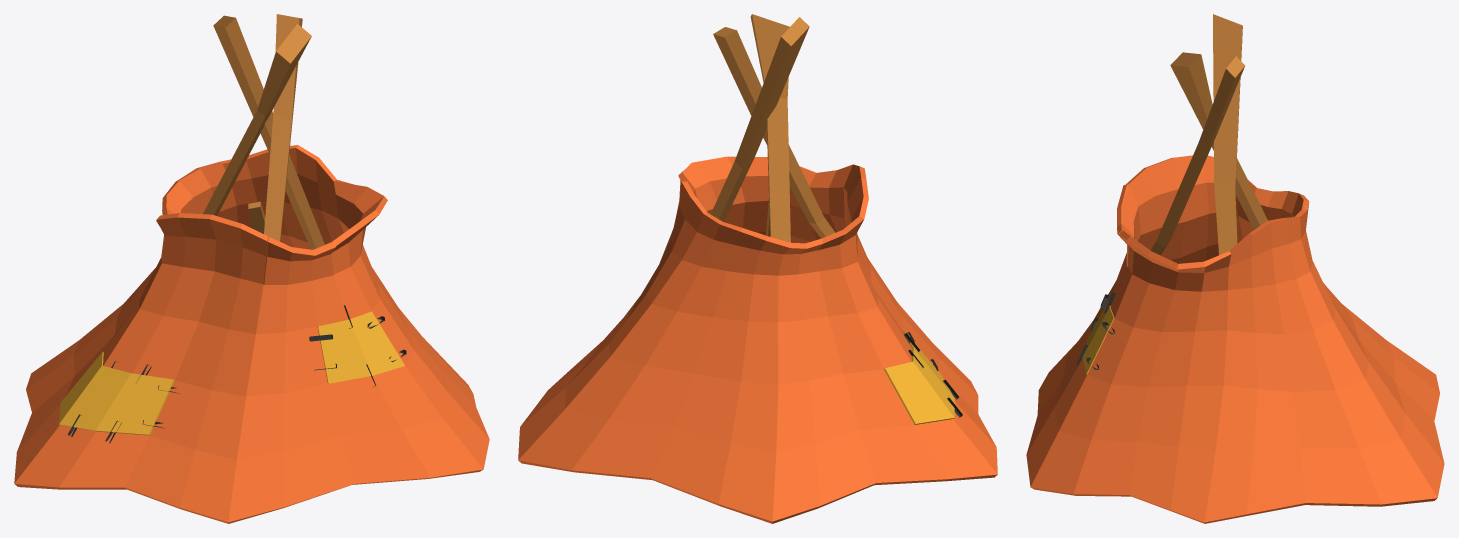
Rendered from tent_2.fbx.
The picture shows the model from 3 angles, left to right: view 1: azimuth 30°, elevation 25°; view 2: azimuth 150°, elevation 25°; view 3: azimuth 270°, elevation 25°; orthographic projection. The views are drawn at different scales.
Visible parts, largest first — view 1: Tent_2; view 2: Tent_2; view 3: Tent_2.
Boxes of the visible parts, bbox=[...] form: Tent_2: bbox=[14, 14, 489, 523]; Tent_2: bbox=[518, 14, 997, 523]; Tent_2: bbox=[1026, 14, 1444, 523].
Bounding box in the file's own units: 4.15 × 3.82 × 3.55.
